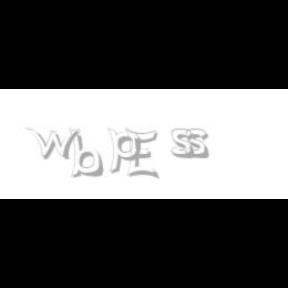E: (126, 128, 158, 180)
b: (69, 128, 107, 178)
p: (108, 128, 144, 174)
s: (171, 128, 199, 160), (185, 128, 213, 160)
w: (25, 128, 84, 160)
